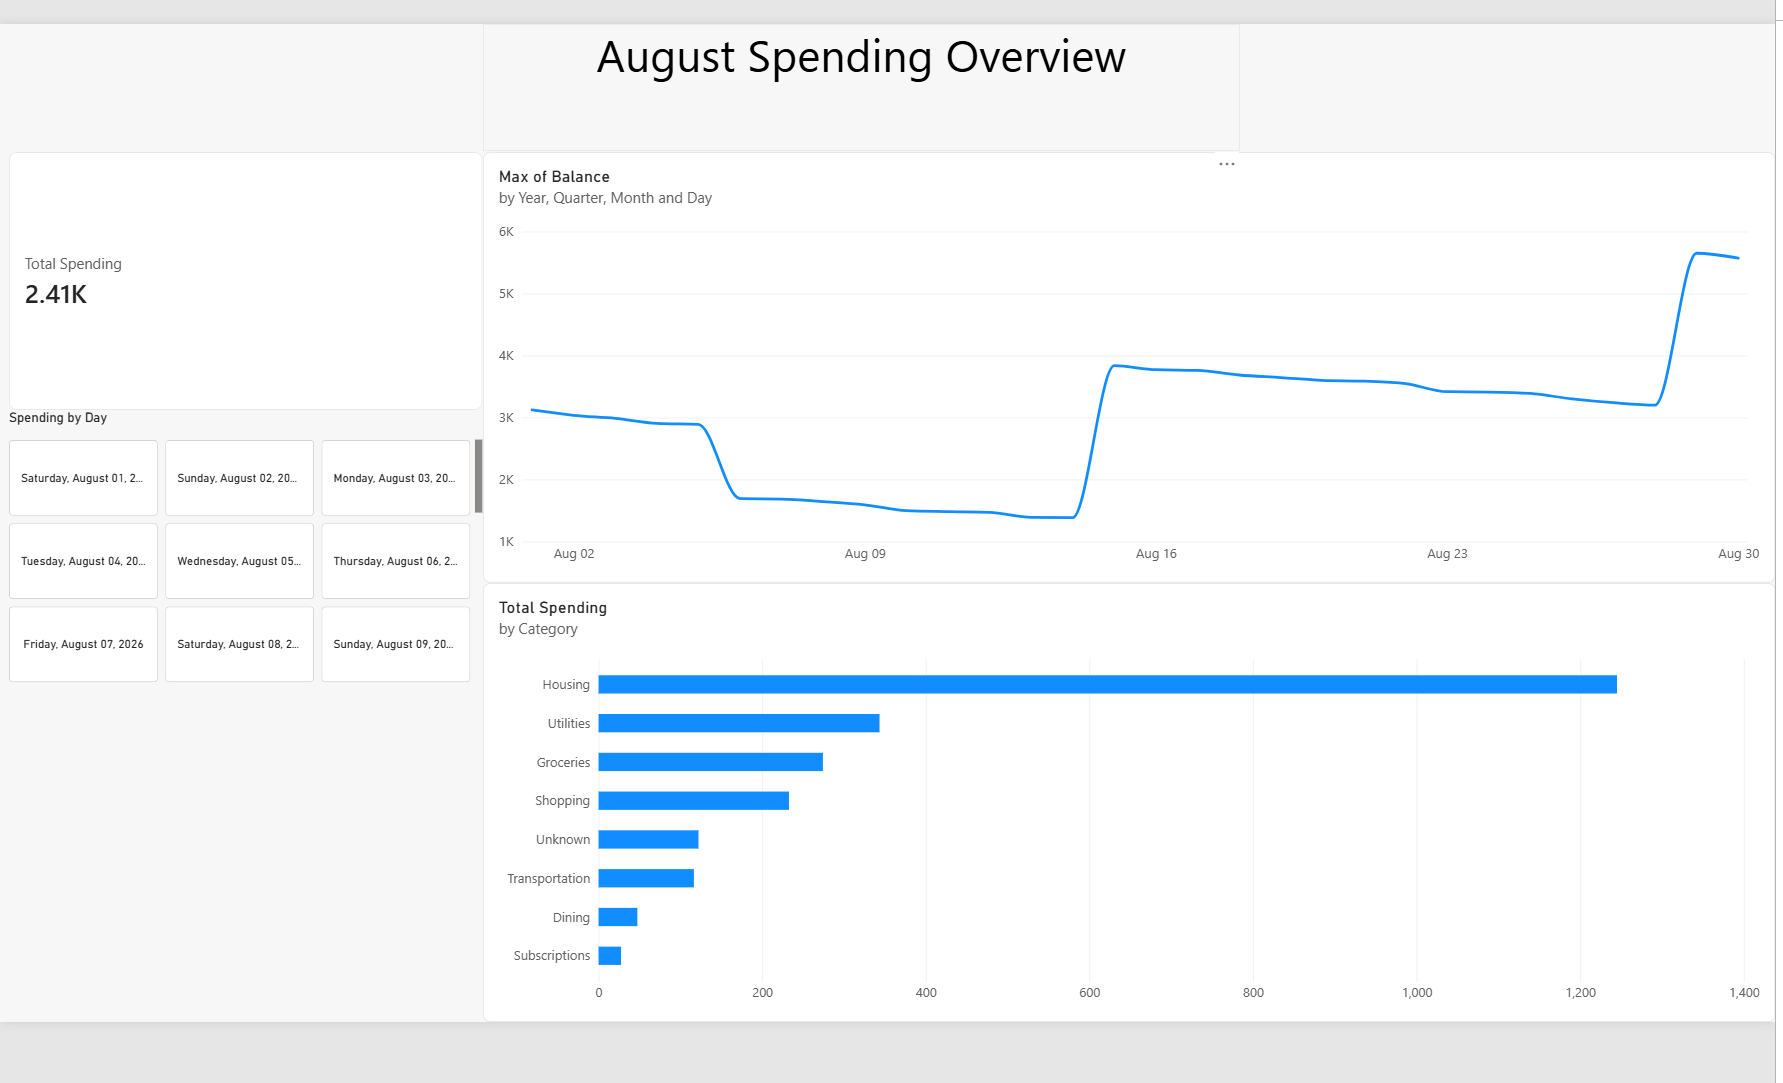

This screenshot's page, from the dashboard's own definition file:
{"tool":"powerbi","page":{"name":"Page 1","canvas":[1920,1080],"ordinal":0},"visuals":[{"type":"cardVisual","fields":{"Data":["practice_bank_statement.Total Spending"]},"box":[9.7,138.5,512.4,279.8],"z":0},{"type":"clusteredBarChart","fields":{"Category":["practice_bank_statement.Category"],"Y":["practice_bank_statement.Total Spending"]},"box":[522.2,604.7,1397.8,475.1],"z":1},{"type":"lineChart","fields":{"Category":["practice_bank_statement.Transaction Date.Variation.Date Hierarchy.Year","practice_bank_statement.Transaction Date.Variation.Date Hierarchy.Quarter","practice_bank_statement.Transaction Date.Variation.Date Hierarchy.Month","practice_bank_statement.Transaction Date.Variation.Date Hierarchy.Day"],"Y":["Max(practice_bank_statement.Balance)"]},"box":[522.2,138.4,1397.8,466.3],"z":2},{"type":"textbox","box":[522.5,0,818.8,137.4],"z":3},{"type":"advancedSlicerVisual","title":"Spending by Day","fields":{"Values":["practice_bank_statement.Transaction Date"]},"box":[9.7,417.5,512.7,295.3],"z":4}]}

Visuals, with their boxes on the page's 1920x1080 design canvas (x1, y1, x2, y2). These are canvas units, not pixel positions in the 1783x1083 screenshot, which may show the page scaled, cropped or inside an application window:
cardVisual - practice_bank_statement.Total Spending: bbox=(10, 138, 522, 418)
clusteredBarChart - practice_bank_statement.Category x practice_bank_statement.Total Spending: bbox=(522, 605, 1920, 1080)
lineChart - practice_bank_statement.Transaction Date.Variation.Date Hierarchy.Year x practice_bank_statement.Transaction Date.Variation.Date Hierarchy.Quarter: bbox=(522, 138, 1920, 605)
textbox: bbox=(522, 0, 1341, 137)
"Spending by Day" advancedSlicerVisual: bbox=(10, 418, 522, 713)
